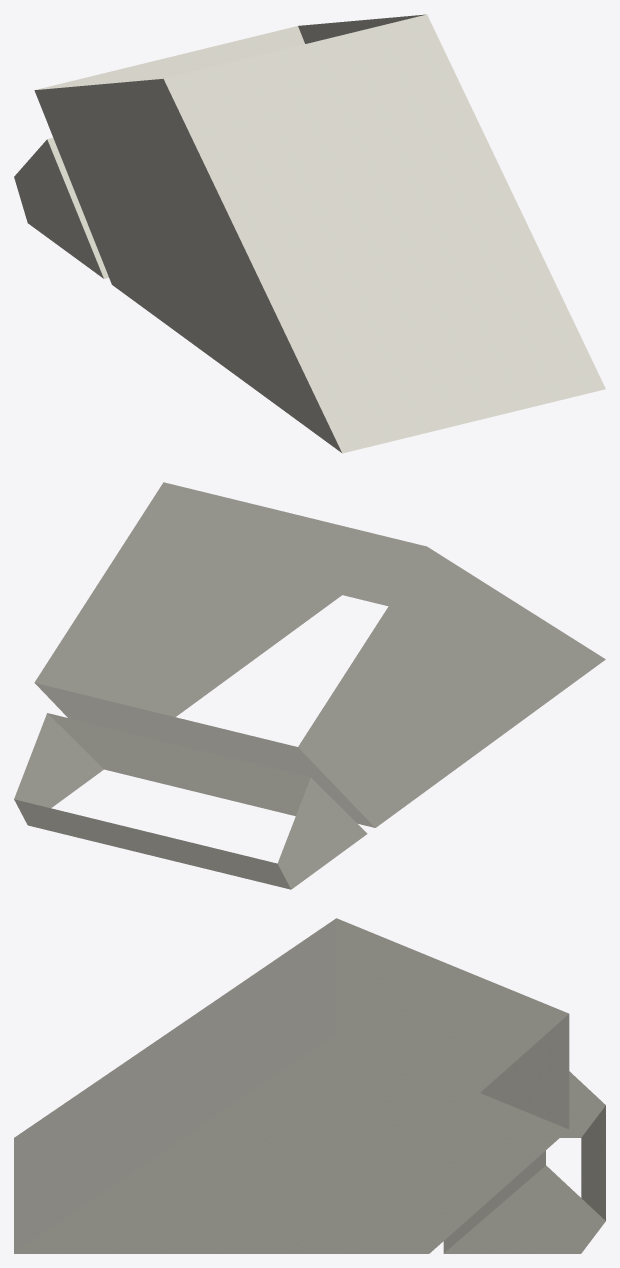
File: sunbeam_blinds_up.fbx
The picture shows the model from 3 angles, top to bottom: view 1: azimuth 30°, elevation 25°; view 2: azimuth 150°, elevation 25°; view 3: azimuth 270°, elevation 25°; orthographic projection. The views are drawn at different scales.
Parts seen in each view (by area): view 1: mesh_0; view 2: mesh_0; view 3: mesh_0.
Boxes of the visible parts, bbox=[...] form: mesh_0: bbox=[14, 14, 605, 453]; mesh_0: bbox=[14, 482, 605, 889]; mesh_0: bbox=[14, 918, 605, 1253].
Size of the model in its own units: 160 by 141 by 345.
1 material, 1 textured.
